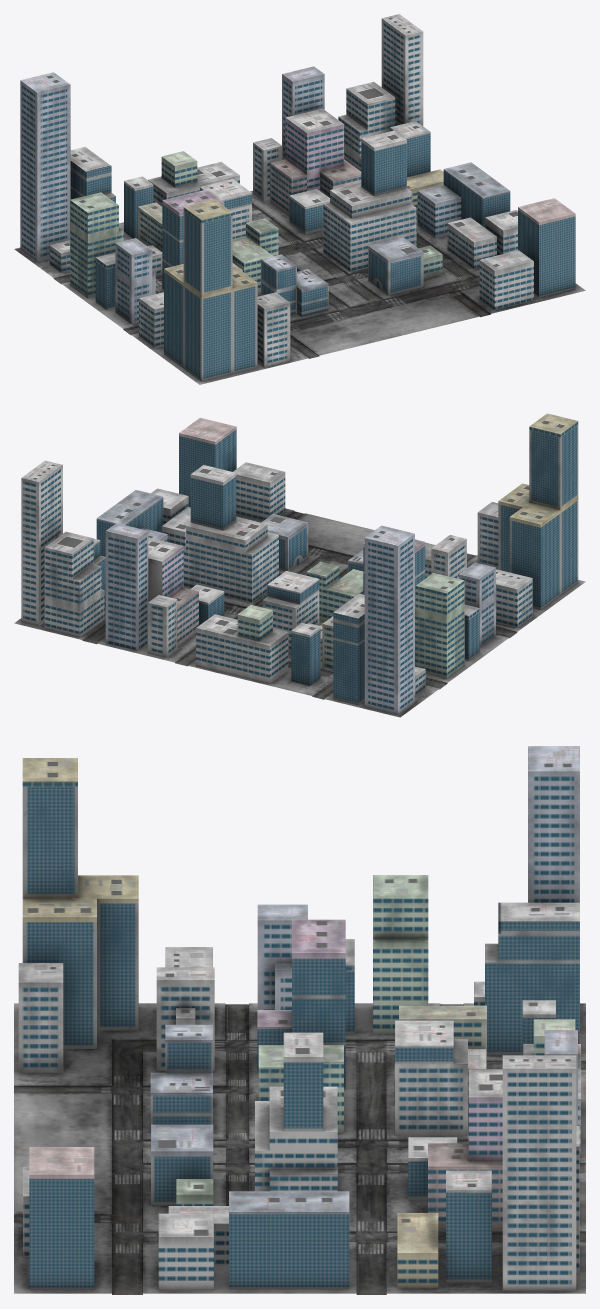
The model's file is tiny_city.glb.
The picture shows the model from 3 angles, top to bottom: view 1: azimuth 30°, elevation 25°; view 2: azimuth 150°, elevation 25°; view 3: azimuth 270°, elevation 25°; orthographic projection. The views are drawn at different scales.
Parts seen in each view (by area): view 1: Tiny_City; view 2: Tiny_City; view 3: Tiny_City.
Boxes of the visible parts, x1,y1,x2,y2 form: Tiny_City: (14, 14, 585, 384); Tiny_City: (14, 413, 585, 717); Tiny_City: (14, 746, 585, 1294).
Bounding box in the file's own units: 7.34 × 3.08 × 6.11.
2 materials, 2 textured.
